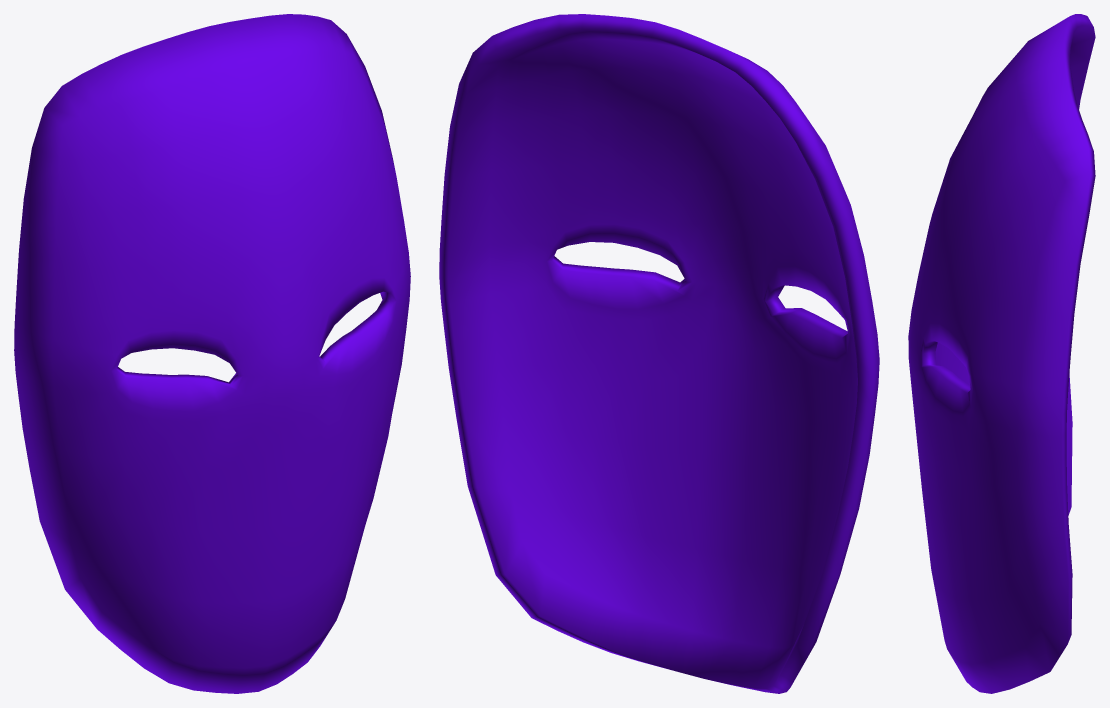
File: noble_mask.fbx
The picture shows the model from 3 angles, left to right: view 1: azimuth 30°, elevation 25°; view 2: azimuth 150°, elevation 25°; view 3: azimuth 270°, elevation 25°; orthographic projection. The views are drawn at different scales.
Visible parts, largest first — view 1: NobleMask; view 2: NobleMask; view 3: NobleMask.
Part boxes in pixels (bbox=[...]): NobleMask: bbox=[14, 14, 410, 693]; NobleMask: bbox=[439, 14, 879, 693]; NobleMask: bbox=[908, 14, 1095, 693].
Size of the model in its own units: 14.88 by 22.89 by 6.18.
